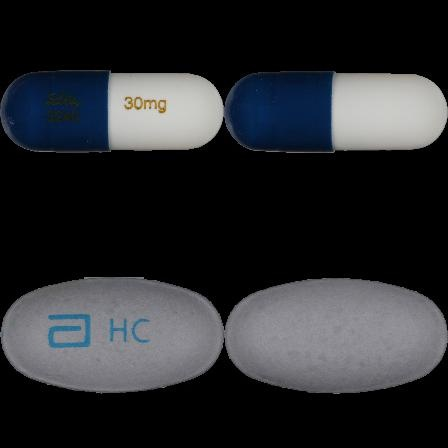43353-303: (0, 0, 224, 224)
